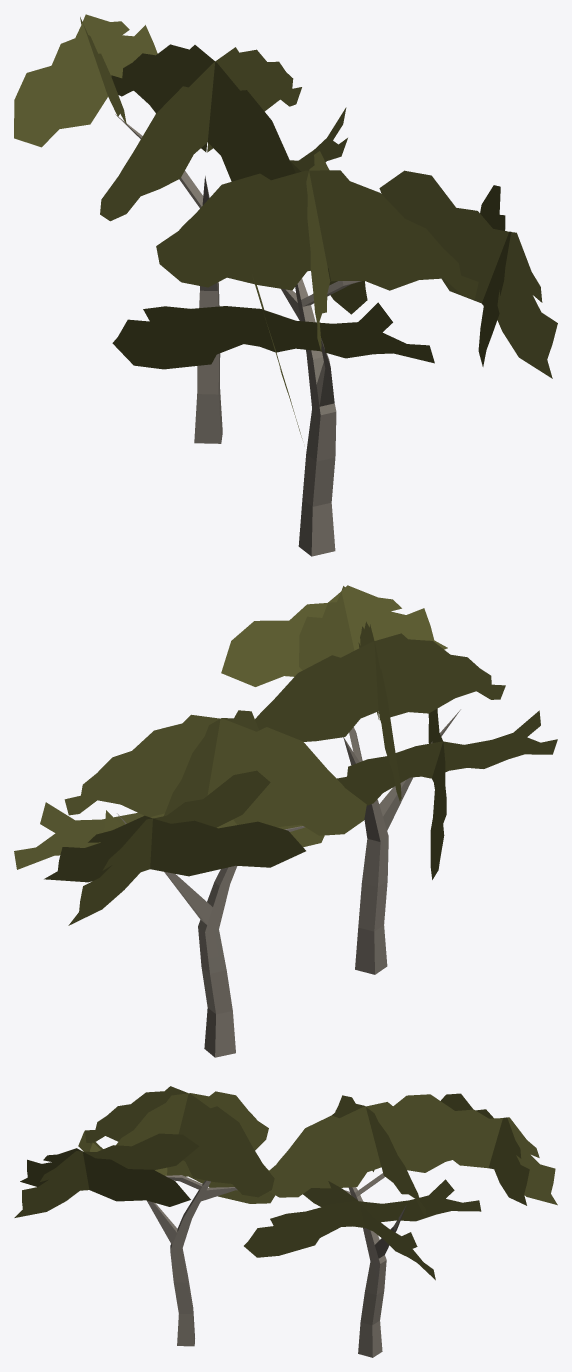
Rendered from Tree16.fbx.
3 renders of one model, top to bottom at view 1: azimuth 30°, elevation 25°; view 2: azimuth 150°, elevation 25°; view 3: azimuth 270°, elevation 25°, orthographic. The views are drawn at different scales.
Parts seen in each view (by area): view 1: Flat_half_tree.016; view 2: Flat_half_tree.016; view 3: Flat_half_tree.016.
Boxes of the visible parts, <box> form: Flat_half_tree.016: <box>14,14,557,556</box>; Flat_half_tree.016: <box>14,585,557,1057</box>; Flat_half_tree.016: <box>14,1086,557,1357</box>.
Size of the model in its own units: 3.73 by 3.78 by 7.42.
